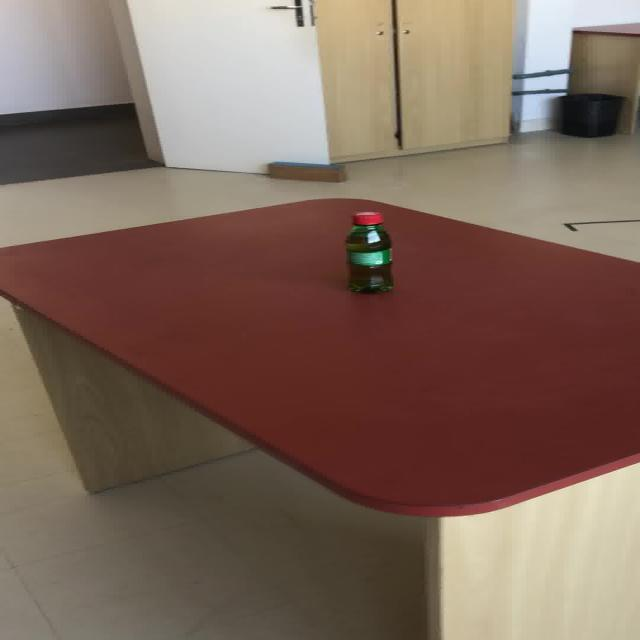guarana: (343, 210, 393, 293), (344, 210, 392, 268)
